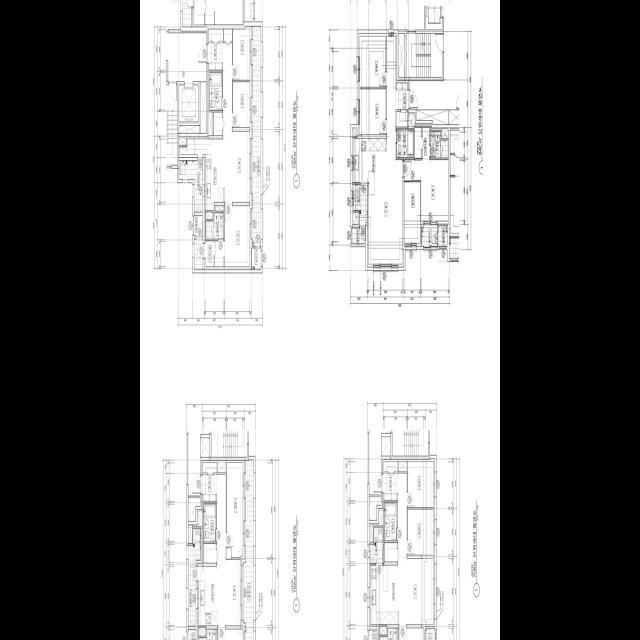background: (140, 0, 500, 640)
space_balconi: (243, 459, 254, 640), (253, 26, 261, 246), (188, 528, 201, 625), (179, 160, 203, 211), (354, 184, 368, 225), (370, 527, 384, 563), (422, 225, 437, 245), (426, 628, 435, 640)
space_bedroom: (404, 159, 448, 220), (225, 205, 250, 266), (227, 462, 243, 557), (360, 36, 386, 86), (360, 88, 386, 134), (408, 461, 433, 507), (408, 509, 433, 555), (233, 28, 250, 79), (233, 81, 250, 127), (399, 628, 424, 640), (218, 629, 243, 640)
space_dressroom: (204, 240, 224, 266), (415, 127, 430, 157)
space_elevator: (179, 84, 199, 121)
space_elevator_hall: (168, 32, 206, 81)
space_front: (201, 462, 217, 501), (207, 42, 223, 70), (382, 473, 398, 500), (396, 82, 409, 109)
space_kitchen: (180, 138, 223, 210), (370, 564, 398, 624), (354, 138, 386, 182), (197, 566, 217, 625)
space_living_room: (369, 36, 403, 263), (398, 473, 433, 624), (223, 42, 250, 202), (217, 474, 241, 625)
space_multipurpose_space: (404, 182, 420, 243)
space_other: (194, 215, 203, 269), (417, 109, 449, 124), (200, 81, 206, 133), (398, 33, 405, 76), (369, 496, 381, 520), (188, 497, 200, 521), (203, 543, 216, 562), (384, 542, 397, 561), (352, 227, 366, 243), (214, 111, 222, 135), (200, 437, 210, 456), (397, 111, 408, 127), (382, 436, 391, 455), (179, 125, 199, 133), (209, 29, 223, 40), (384, 461, 398, 471), (209, 111, 213, 135), (188, 629, 196, 640), (224, 29, 232, 40), (408, 114, 414, 128), (399, 461, 407, 471), (218, 462, 226, 472), (369, 630, 377, 640), (379, 510, 384, 525), (198, 511, 203, 526), (188, 525, 192, 543), (353, 212, 359, 222), (199, 627, 206, 635), (380, 626, 387, 634), (206, 211, 213, 219), (442, 129, 448, 138), (370, 525, 373, 542), (215, 205, 224, 210), (180, 138, 186, 145), (353, 129, 357, 136)
space_outdoor_room: (438, 225, 447, 245)
space_staircase: (406, 33, 442, 76)
space_toilet: (384, 502, 397, 540), (203, 503, 216, 541), (397, 129, 414, 157), (210, 71, 222, 110), (206, 212, 224, 238), (430, 131, 448, 157), (380, 628, 398, 640), (199, 629, 217, 640)
